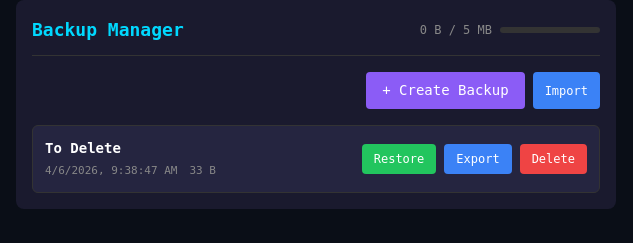
Test: BackupManager Integration › should allow deleting a backup
Expected: the text "To Delete" is shown, [45,140,121,156]
What coordinates should you click on to do the following:
click the button "Delete"
I would click on:
 (553, 159)
Its box is [520,144,587,174].
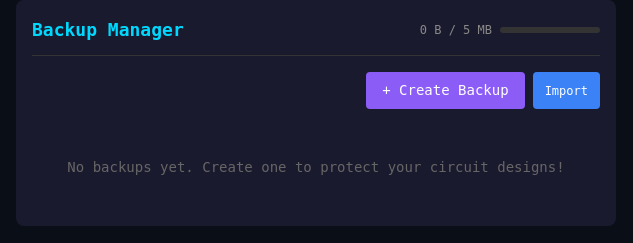
Expected: the text "To Delete" is gone
